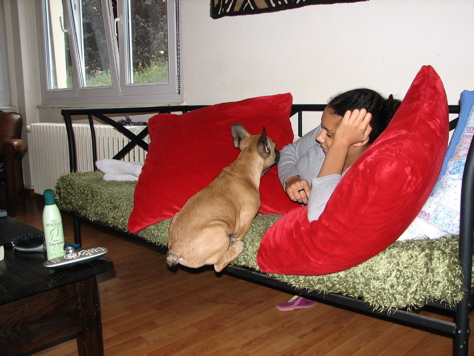person: (97, 89, 403, 223)
